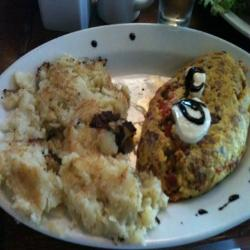omelette: (138, 45, 250, 202)
rice: (9, 66, 163, 241)
